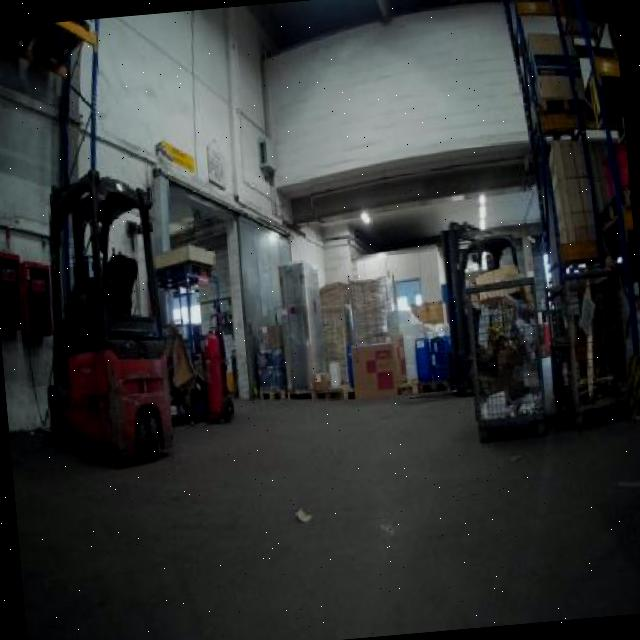pallet: (412, 371, 464, 398), (251, 384, 295, 406), (316, 387, 360, 402), (288, 384, 316, 406)
